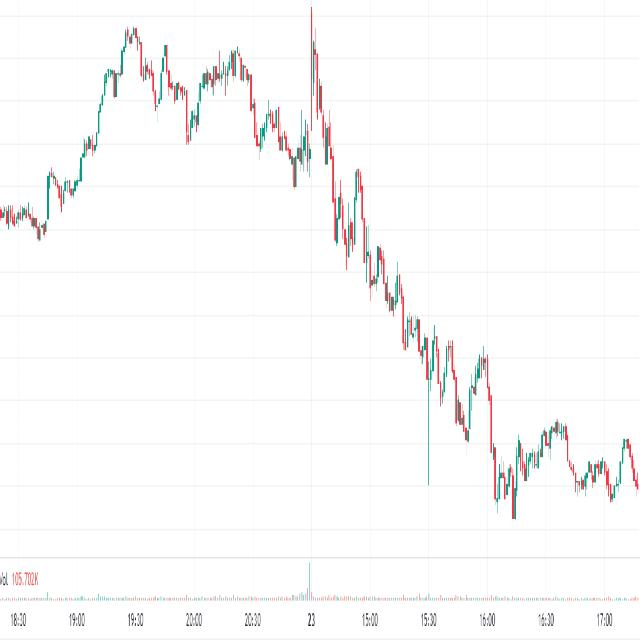Head-Shoulders: (97, 6, 160, 143)
